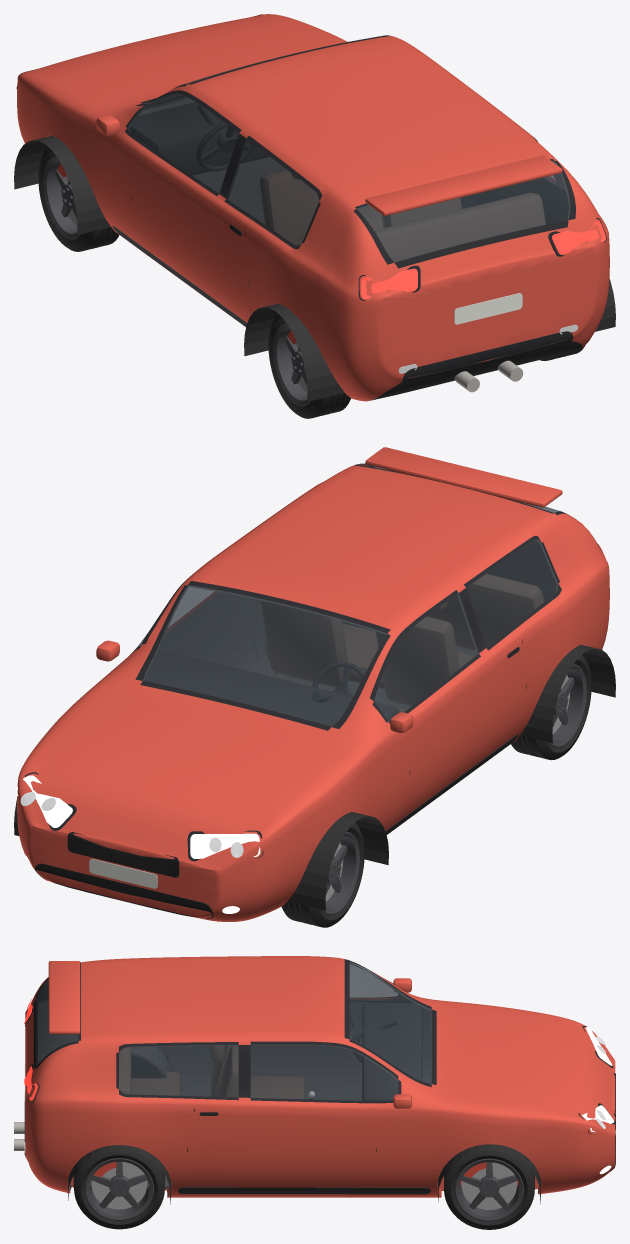
File: 01_pico_furia.glb
The picture shows the model from 3 angles, top to bottom: view 1: azimuth 30°, elevation 25°; view 2: azimuth 150°, elevation 25°; view 3: azimuth 270°, elevation 25°; orthographic projection. The views are drawn at different scales.
Visible parts, largest first — view 1: Body, Glass, Interior, ArchLiners, Interior_Shell, Spoiler_Roof, Wheel_RL, Wheel_FL, Diffuser, Lights_Tail, SteeringWheel, Plate_Rear (+2 smaller); view 2: Body, Glass, Interior, Interior_Shell, ArchLiners, Spoiler_Roof, Wheel_FL, Wheel_RL, Lights_Head, Grille_Upper, Intake_Lower, Plate_Front (+3 smaller); view 3: Body, Glass, Interior_Shell, Interior, Wheel_RR, Wheel_FR, Spoiler_Roof, ArchLiners, SideSkirt, SteeringWheel, Lights_Head, Mirror_Housing.
Boxes of the visible parts, x1=… form: Body: x1=17, y1=14, x2=609, y2=401; Glass: x1=127, y1=35, x2=570, y2=262; Interior: x1=129, y1=102, x2=545, y2=262; ArchLiners: x1=14, y1=136, x2=615, y2=401; Interior_Shell: x1=127, y1=93, x2=570, y2=224; Spoiler_Roof: x1=365, y1=155, x2=562, y2=215; Wheel_RL: x1=268, y1=313, x2=350, y2=418; Wheel_FL: x1=38, y1=146, x2=119, y2=251; Diffuser: x1=402, y1=331, x2=573, y2=384; Lights_Tail: x1=361, y1=221, x2=605, y2=299; SteeringWheel: x1=196, y1=104, x2=255, y2=171; Plate_Rear: x1=454, y1=293, x2=522, y2=324; Body: x1=17, y1=463, x2=609, y2=921; Glass: x1=135, y1=463, x2=561, y2=726; Interior: x1=144, y1=574, x2=543, y2=726; Interior_Shell: x1=143, y1=539, x2=558, y2=699; ArchLiners: x1=14, y1=621, x2=615, y2=910; Spoiler_Roof: x1=365, y1=447, x2=562, y2=507; Wheel_FL: x1=281, y1=822, x2=364, y2=927; Wheel_RL: x1=511, y1=655, x2=591, y2=760; Lights_Head: x1=16, y1=775, x2=260, y2=858; Grille_Upper: x1=67, y1=832, x2=179, y2=877; Intake_Lower: x1=35, y1=863, x2=213, y2=918; Plate_Front: x1=89, y1=859, x2=157, y2=888; Body: x1=25, y1=956, x2=615, y2=1197; Glass: x1=36, y1=961, x2=431, y2=1100; Interior_Shell: x1=36, y1=963, x2=431, y2=1191; Interior: x1=73, y1=1003, x2=422, y2=1188; Wheel_RR: x1=74, y1=1150, x2=164, y2=1229; Wheel_FR: x1=444, y1=1150, x2=534, y2=1229; Spoiler_Roof: x1=48, y1=961, x2=80, y2=1034; ArchLiners: x1=68, y1=1055, x2=540, y2=1204; SideSkirt: x1=178, y1=1187, x2=430, y2=1194; SteeringWheel: x1=349, y1=1013, x2=397, y2=1062; Lights_Head: x1=582, y1=1027, x2=614, y2=1132; Mirror_Housing: x1=393, y1=978, x2=411, y2=1108.
Size of what is drawn, in the model's own units: 2.02 by 1.41 by 4.17.
